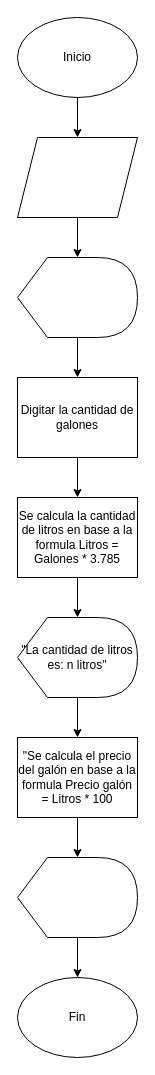
Some shapes in this 155 by 1075 pixel diagram are drawn without their labels. The shapes that lost their labels are listed below. From the top down, each one's centre as x and y in pixels, then its label:
point (77, 177): Galones
point (77, 297): "Ingresa la cantidad de galones"
point (77, 897): "El precio por galón es: n Bolivares"
